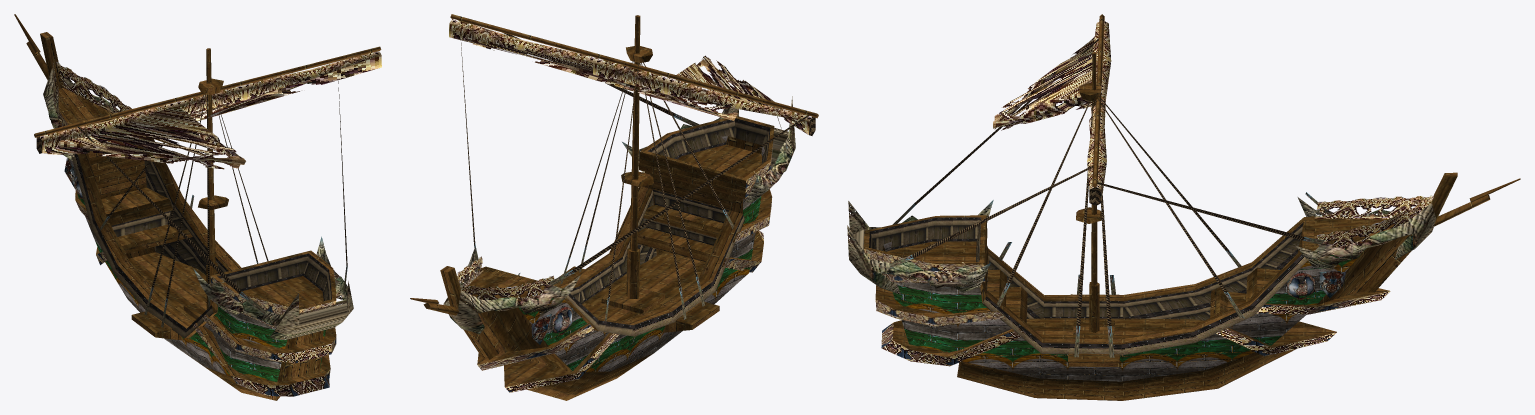
File: Ship01.obj
3 views of the same model, side by side, from view 1: azimuth 30°, elevation 25°; view 2: azimuth 150°, elevation 25°; view 3: azimuth 270°, elevation 25° (orthographic). The views are drawn at different scales.
Parts seen in each view (by area): view 1: Mesh_0, Mesh_9, Mesh_2, Mesh_4, Mesh_1, Mesh_3, Mesh_7, Mesh_5, Mesh_6; view 2: Mesh_0, Mesh_9, Mesh_2, Mesh_1, Mesh_4, Mesh_7, Mesh_3, Mesh_5, Mesh_6; view 3: Mesh_0, Mesh_1, Mesh_2, Mesh_4, Mesh_3, Mesh_9, Mesh_7, Mesh_5, Mesh_6.
Boxes of the visible parts, x1,y1,x2,y2 form: Mesh_0: (14,14,381,400); Mesh_9: (40,51,381,169); Mesh_2: (71,139,331,338); Mesh_4: (43,68,353,340); Mesh_1: (67,155,325,382); Mesh_3: (75,200,336,396); Mesh_7: (77,67,347,298); Mesh_5: (53,62,134,126); Mesh_6: (99,195,347,327); Mesh_0: (410,14,818,400); Mesh_9: (449,18,811,134); Mesh_2: (556,118,770,351); Mesh_1: (519,136,764,371); Mesh_4: (443,96,795,344); Mesh_7: (459,23,808,297); Mesh_3: (477,144,772,392); Mesh_5: (457,256,554,305); Mesh_6: (474,113,787,321); Mesh_0: (863,14,1520,400); Mesh_1: (883,241,1365,381); Mesh_2: (869,217,1308,355); Mesh_4: (847,197,1435,300); Mesh_3: (864,249,1390,366); Mesh_9: (993,21,1111,200); Mesh_7: (912,39,1304,325); Mesh_5: (1313,195,1433,251); Mesh_6: (889,192,1325,357).
Bounding box in the file's own units: 11.35 × 10.37 × 18.35.
Materials: 7 (7 with a texture image).
